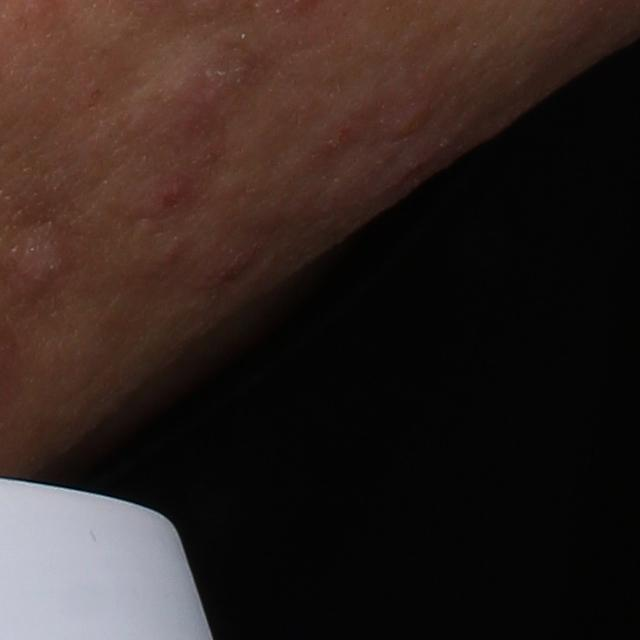papule: (5, 219, 75, 313), (143, 163, 209, 223), (383, 100, 436, 142)
